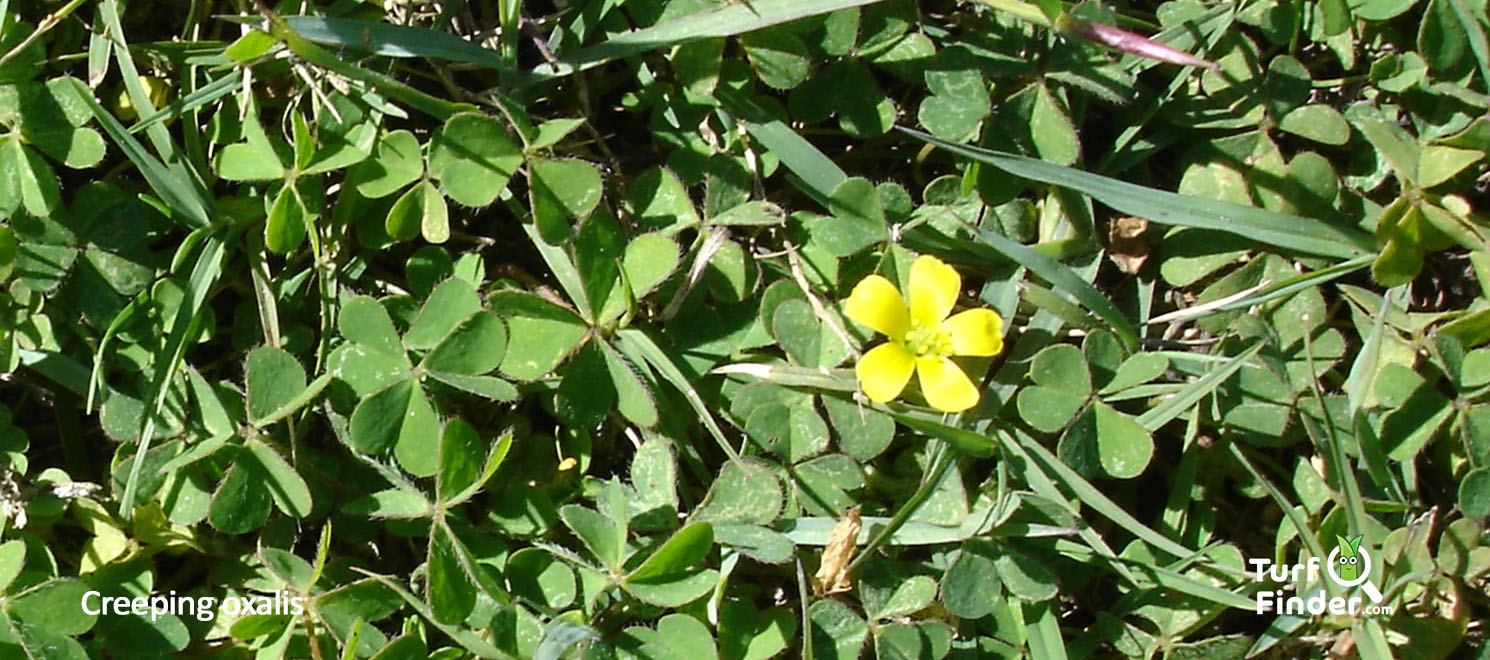oxalis: (122, 71, 1490, 626)
